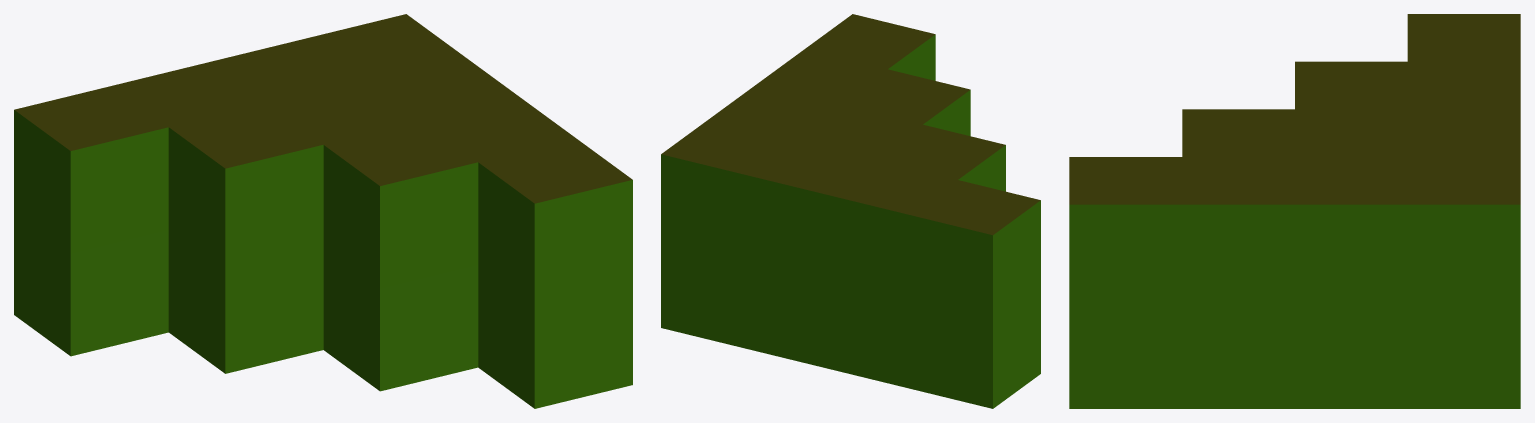
Rendered from block_8.fbx.
The picture shows the model from 3 angles, left to right: view 1: azimuth 30°, elevation 25°; view 2: azimuth 150°, elevation 25°; view 3: azimuth 270°, elevation 25°; orthographic projection. The views are drawn at different scales.
Parts seen in each view (by area): view 1: Box.031; view 2: Box.031; view 3: Box.031.
Boxes of the visible parts, left/top/right/bottom form: Box.031: left=14, top=14, right=632, bottom=408; Box.031: left=661, top=14, right=1040, bottom=408; Box.031: left=1069, top=14, right=1520, bottom=408.
Size of the model in its own units: 40 by 20 by 40.
